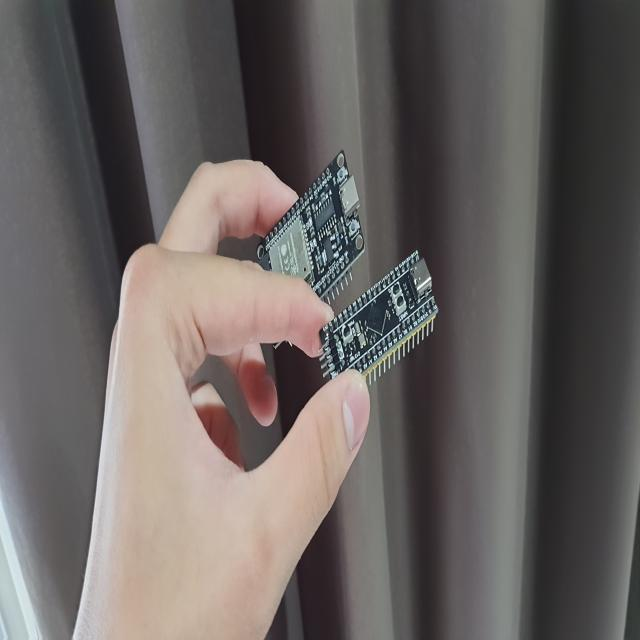ESP32: (258, 152, 365, 300)
STM32: (320, 252, 438, 384)
